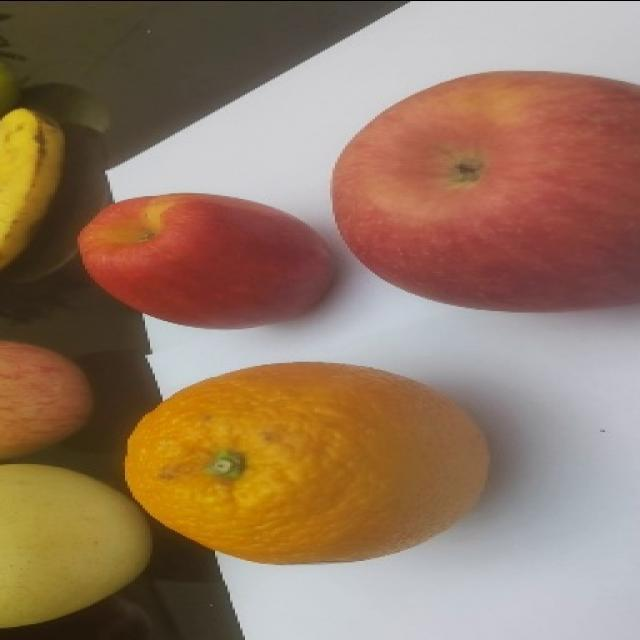Apple: (330, 69, 639, 313), (76, 191, 335, 329), (0, 338, 94, 461)
Orange: (123, 360, 491, 565)
